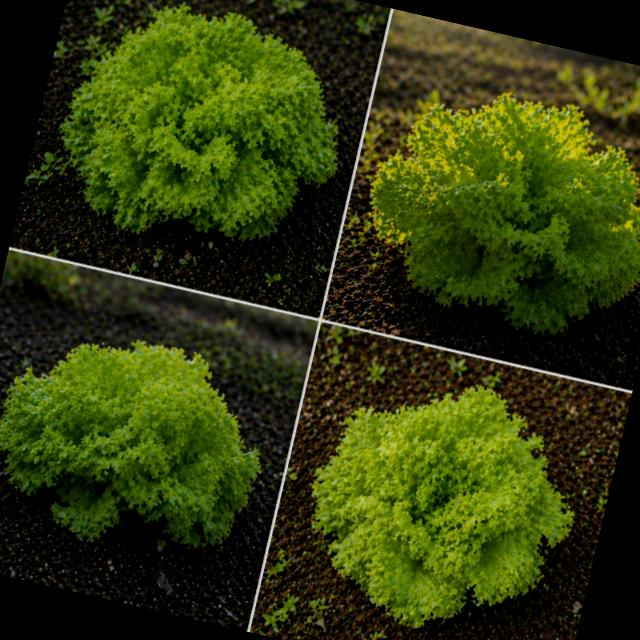lista_para_cosechar: (61, 4, 336, 240), (371, 93, 640, 332), (313, 386, 572, 626), (0, 340, 258, 546)
